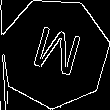M_S: (25, 22, 83, 84)
